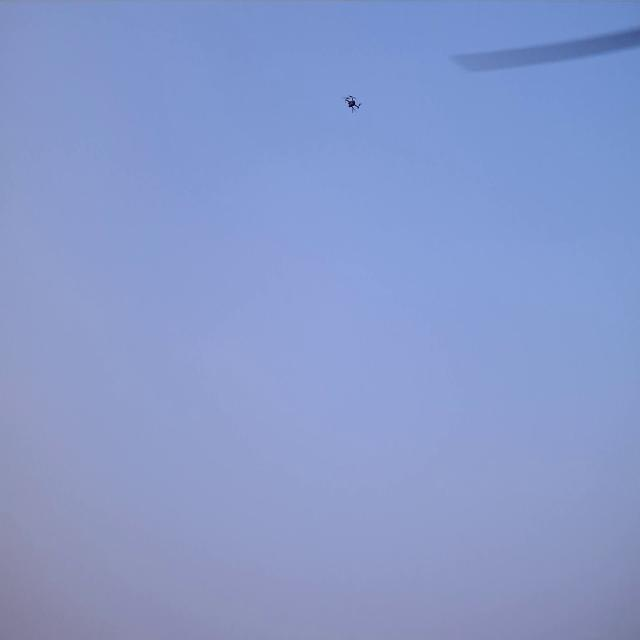UAV: (345, 96, 360, 110)
